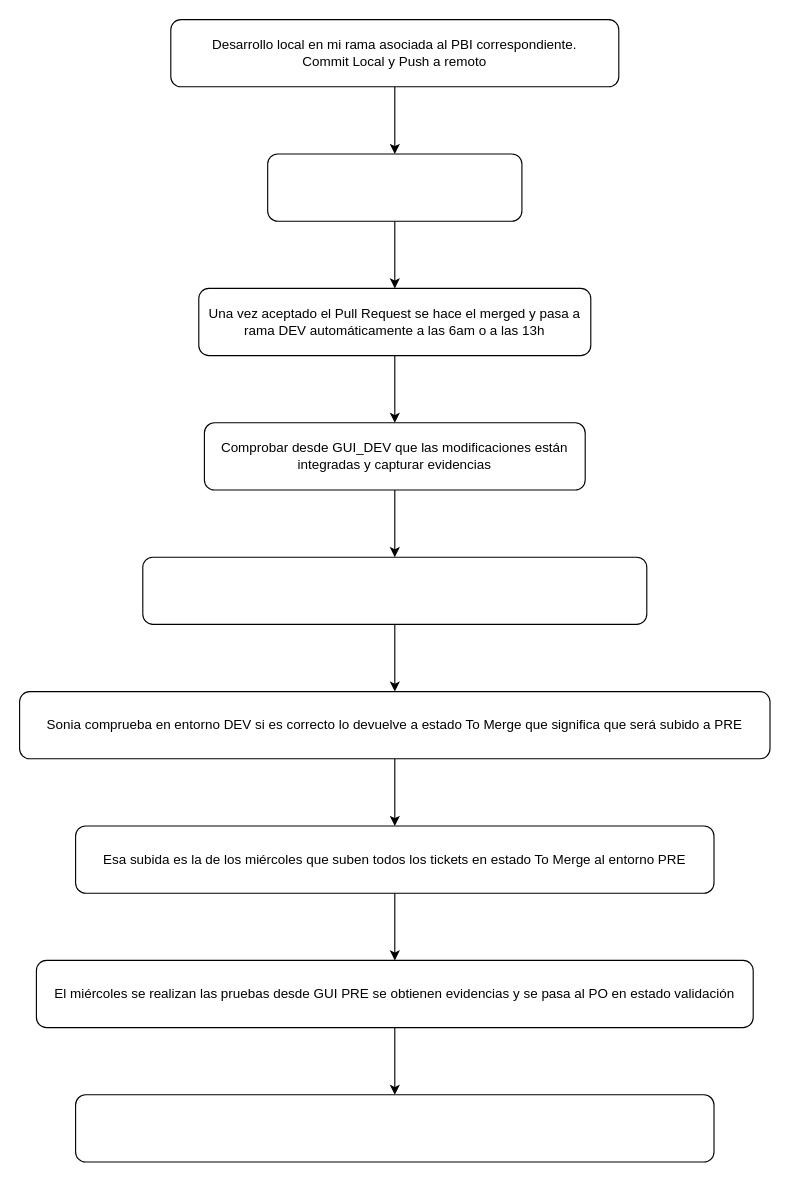
Some shapes in this 790 by 1182 pixel diagram are drawn without their labels. The box of each missing label's shape, as (x1, y1, x2, y2) in pixels:
Ajuntar Evidencias al ticket y pasarlo a Testing Dev (Asignarlo a Sonia PO): (142, 556, 647, 624)
Pull request con dos reviewer: (267, 153, 522, 221)
Si esta todo ok se pasa a Done si no vuelve a Active y comienza el ciclo.: (74, 1094, 714, 1162)
